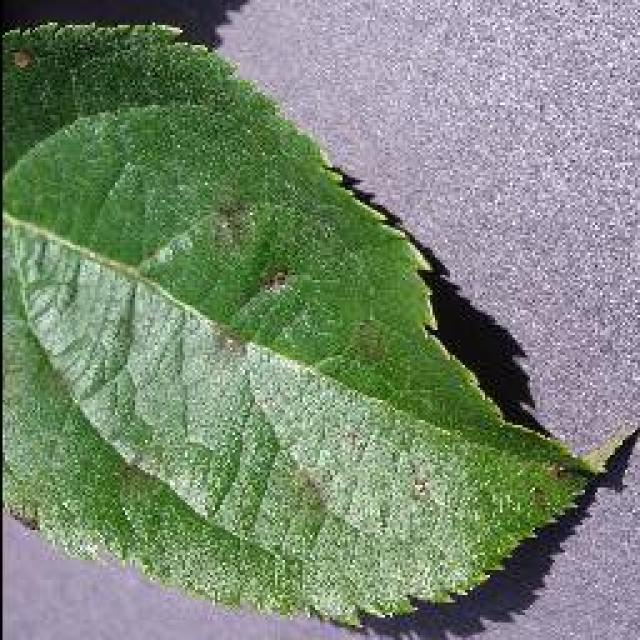apple scab disease: (0, 15, 632, 630)
